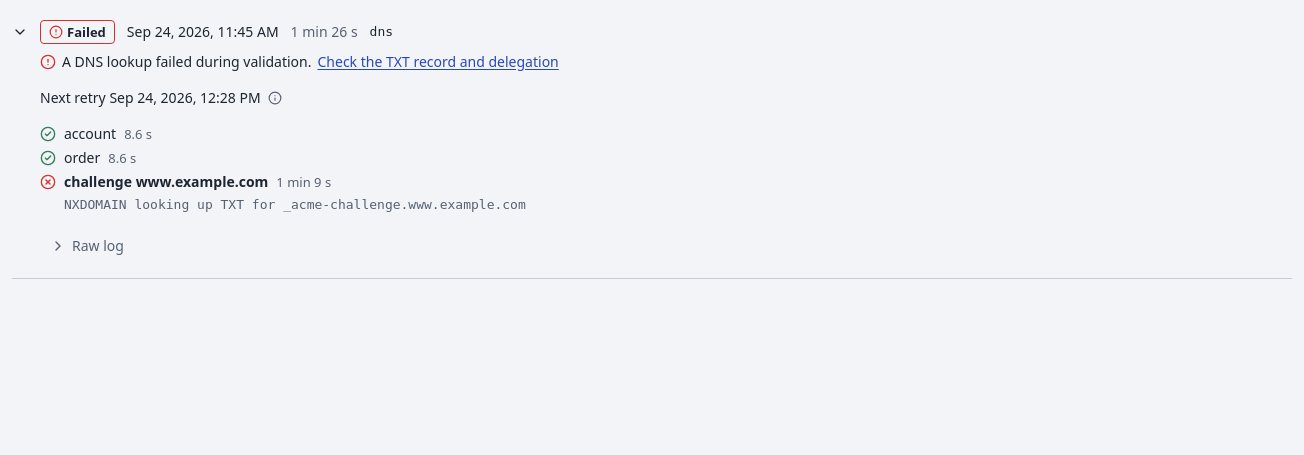
Test: fetches the log only once Raw log is opened
The image size is (1304, 455).
Click the button "Raw log": click(87, 246) [40,230,134,262]
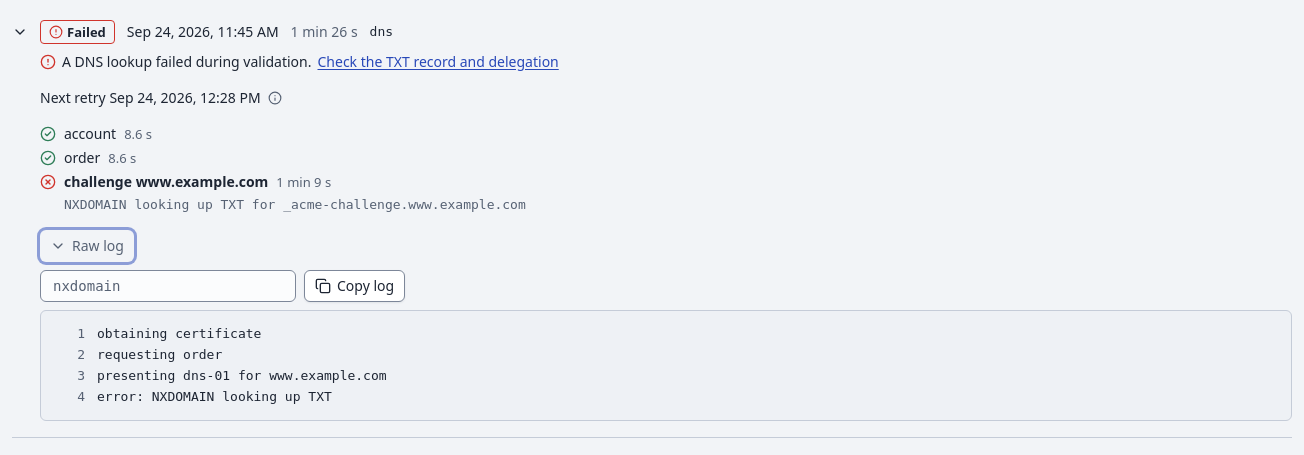
Now the text "requesting order" is shown, box [97,344,222,365]
